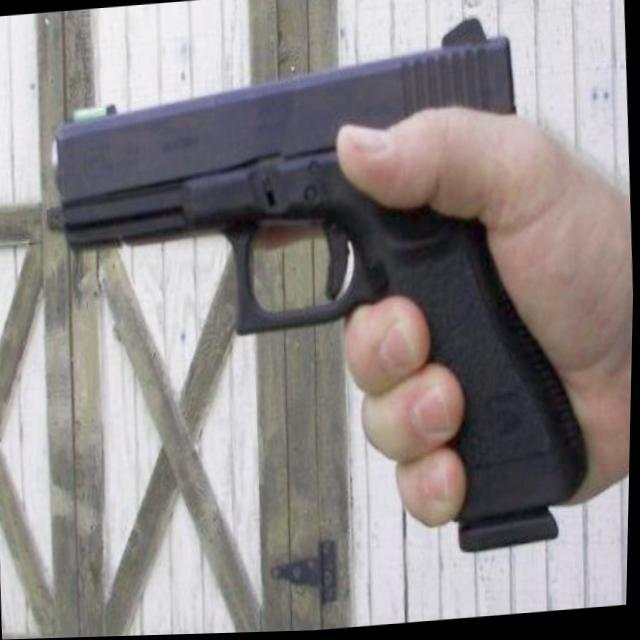weapon: (38, 12, 603, 600)
